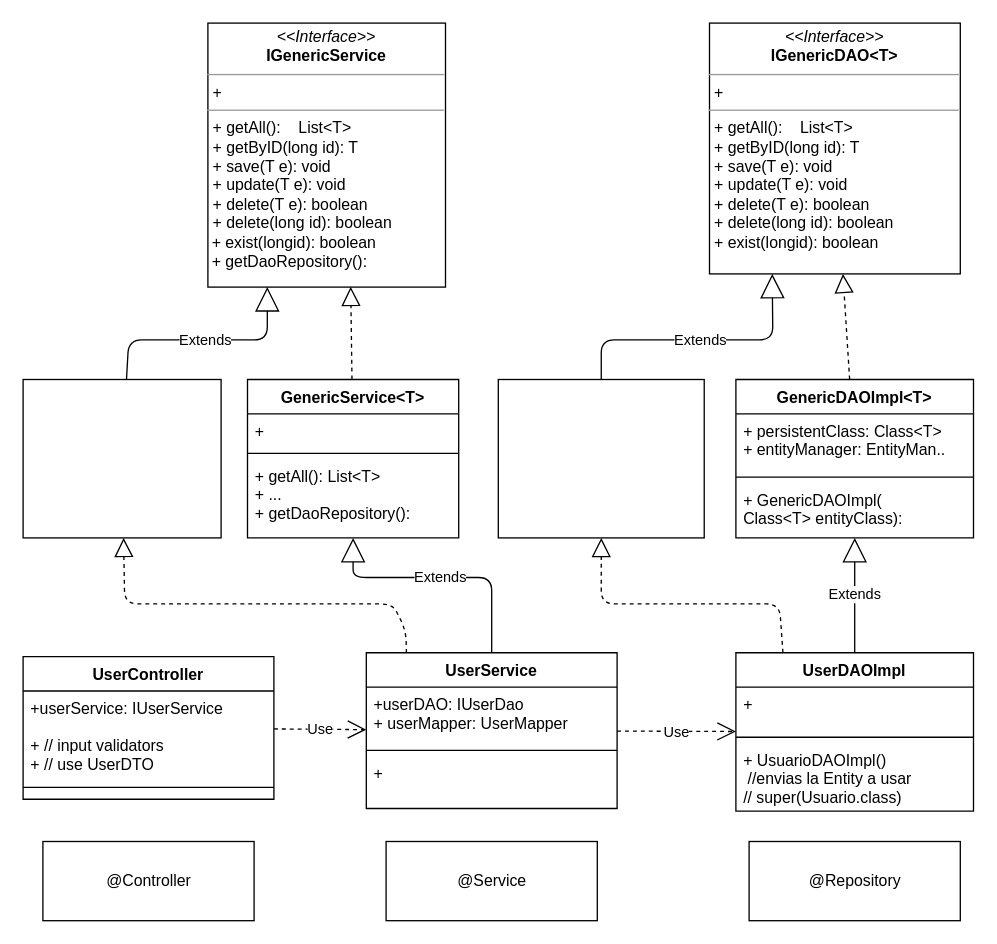
Image size: 997x944. Some labels were removed from this diagram. Here are the shapes that lost their labels. From the top down, the centre of each, then its label:
At (x=121, y=458): "<<Interface>> IUserService + + registerUser".
At (x=600, y=458): "<<Interface>> IUserDao + + method1(Type): Type +".
